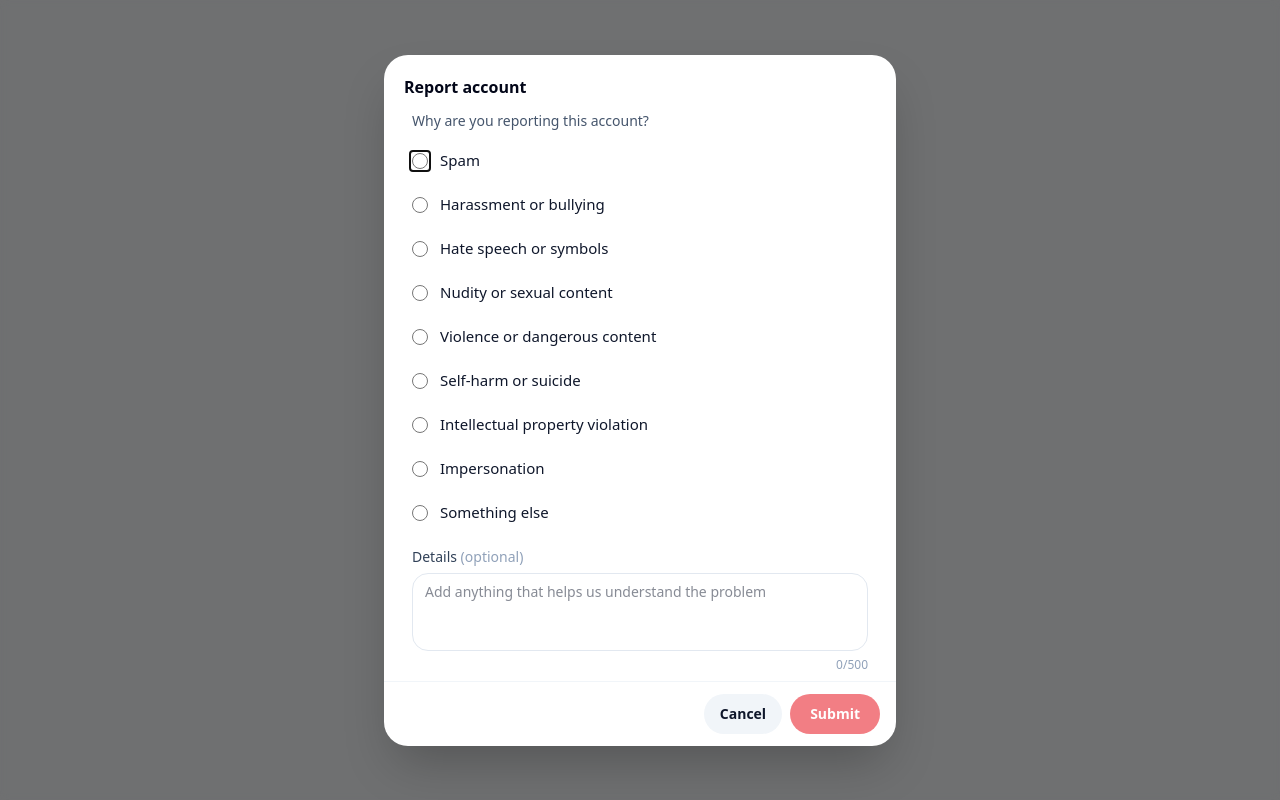
ReportSheet › shows the server error and stays open
The width and height of the screenshot is (1280, 800).
What coordinates should you click on to do the following:
click the radio button labelled "Spam"
I would click on:
 (420, 160)
Its box is [412,152,428,168].
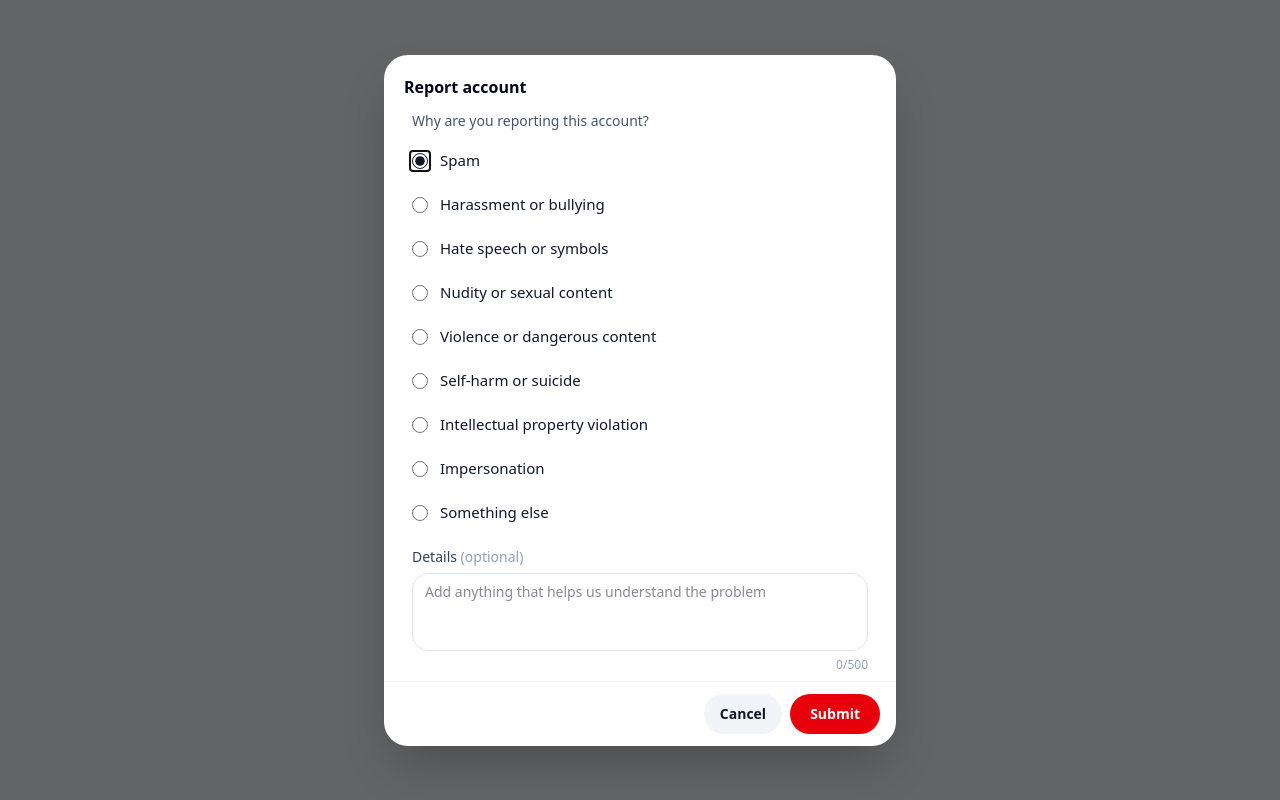
What coordinates should you click on to do the following:
click the button "Submit"
I would click on:
 (835, 714)
Its box is [790,694,880,734].
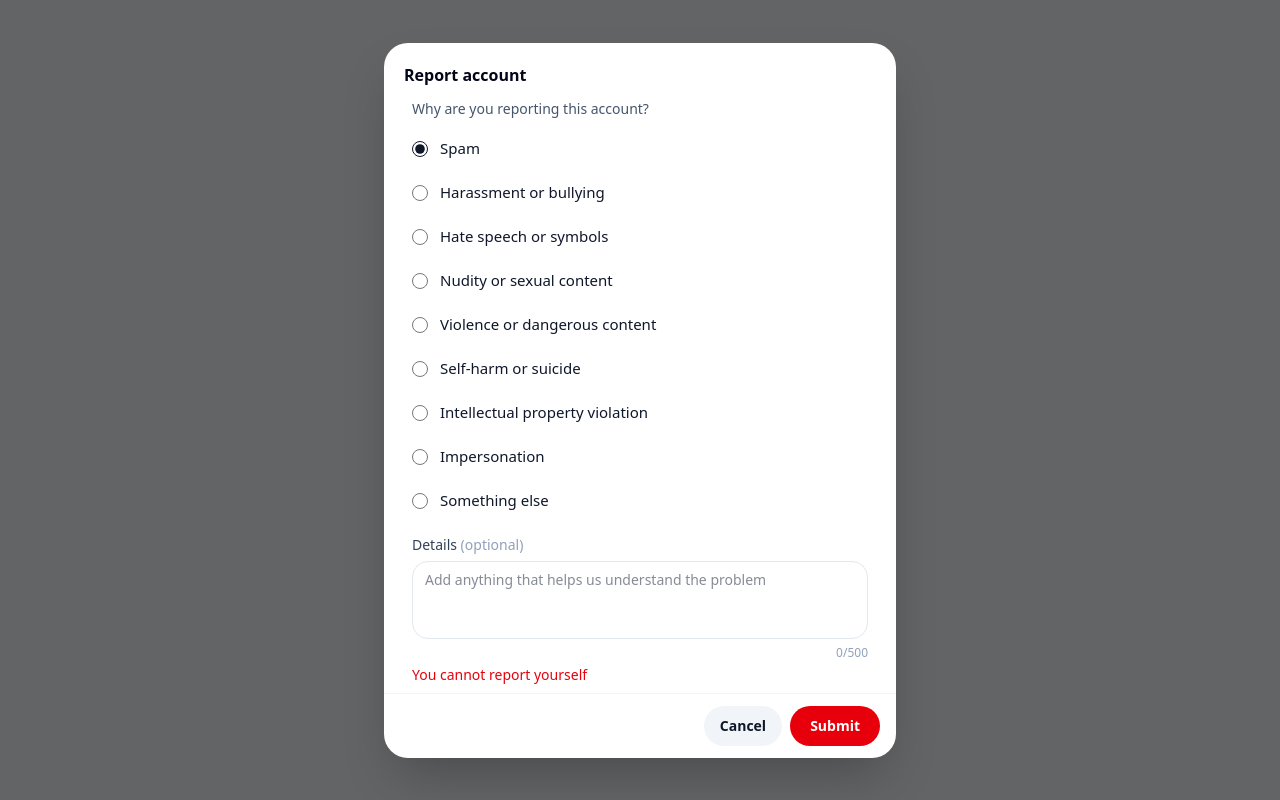
Expected: the dialog is shown, [384,42,896,758]
Result: the message reads "You cannot report yourself" at [412,664,587,684]
